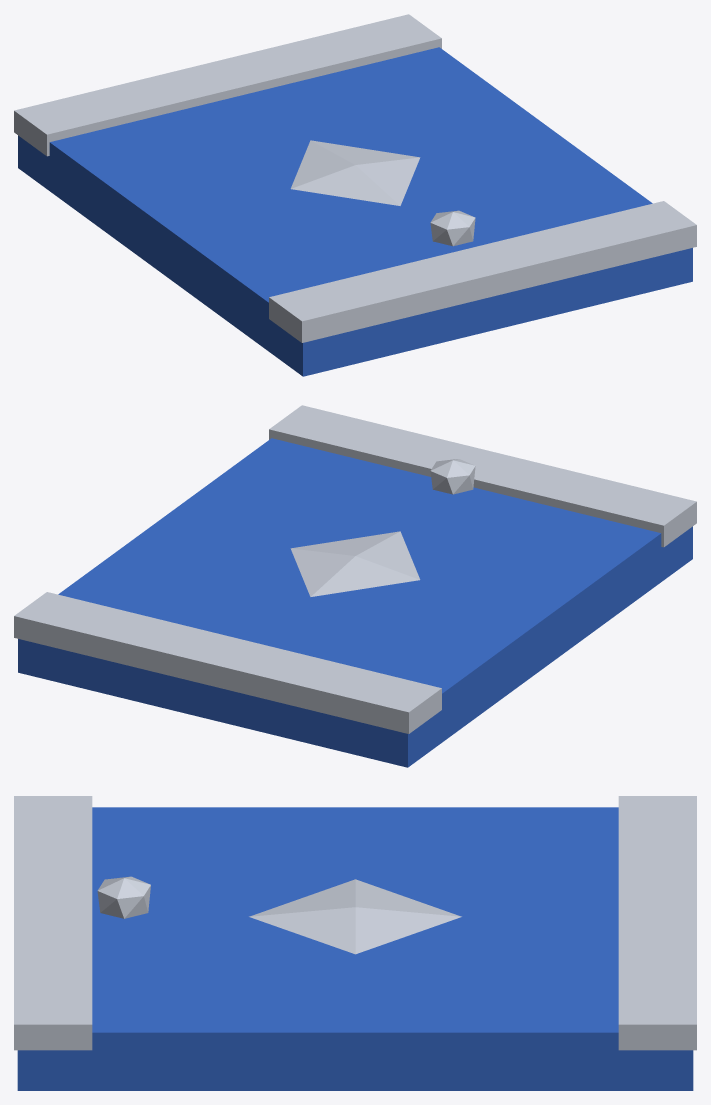
The model's file is drop_cape_defence.glb.
The picture shows the model from 3 angles, top to bottom: view 1: azimuth 30°, elevation 25°; view 2: azimuth 150°, elevation 25°; view 3: azimuth 270°, elevation 25°; orthographic projection. The views are drawn at different scales.
Parts seen in each view (by area): view 1: drop_cape_defence; view 2: drop_cape_defence; view 3: drop_cape_defence.
Boxes of the visible parts, left/top/right/bottom form: drop_cape_defence: left=14, top=14, right=696, bottom=376; drop_cape_defence: left=14, top=405, right=696, bottom=767; drop_cape_defence: left=14, top=796, right=696, bottom=1090.
Size of the model in its own units: 0.304 by 0.062 by 0.384.
